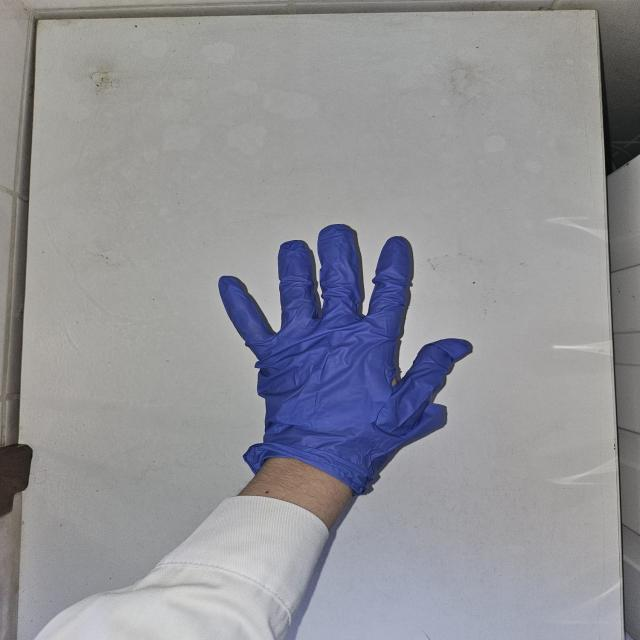gloves_damaged: (217, 224, 474, 497)
